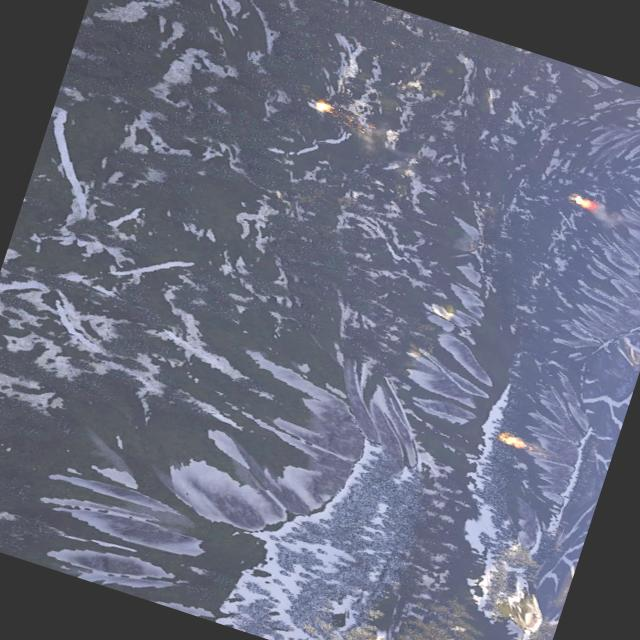fire: (568, 193, 596, 211), (498, 431, 526, 448), (310, 98, 330, 113)
smoke: (338, 114, 422, 178), (588, 203, 640, 240)
